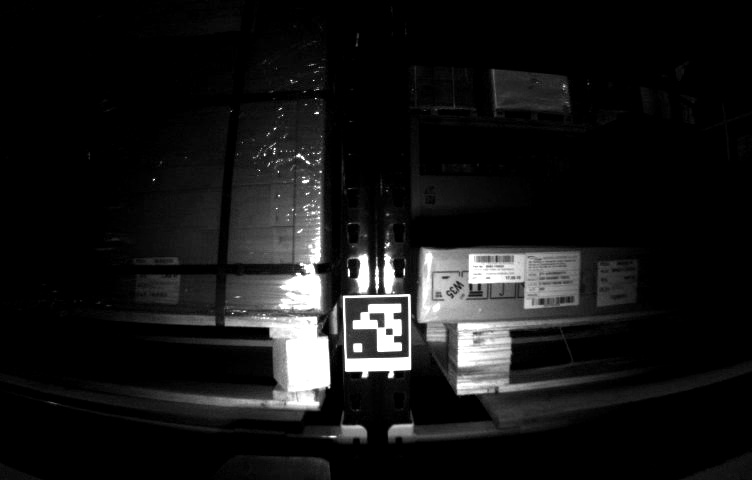True Barcode: (134, 260, 176, 303), (596, 260, 635, 301)
